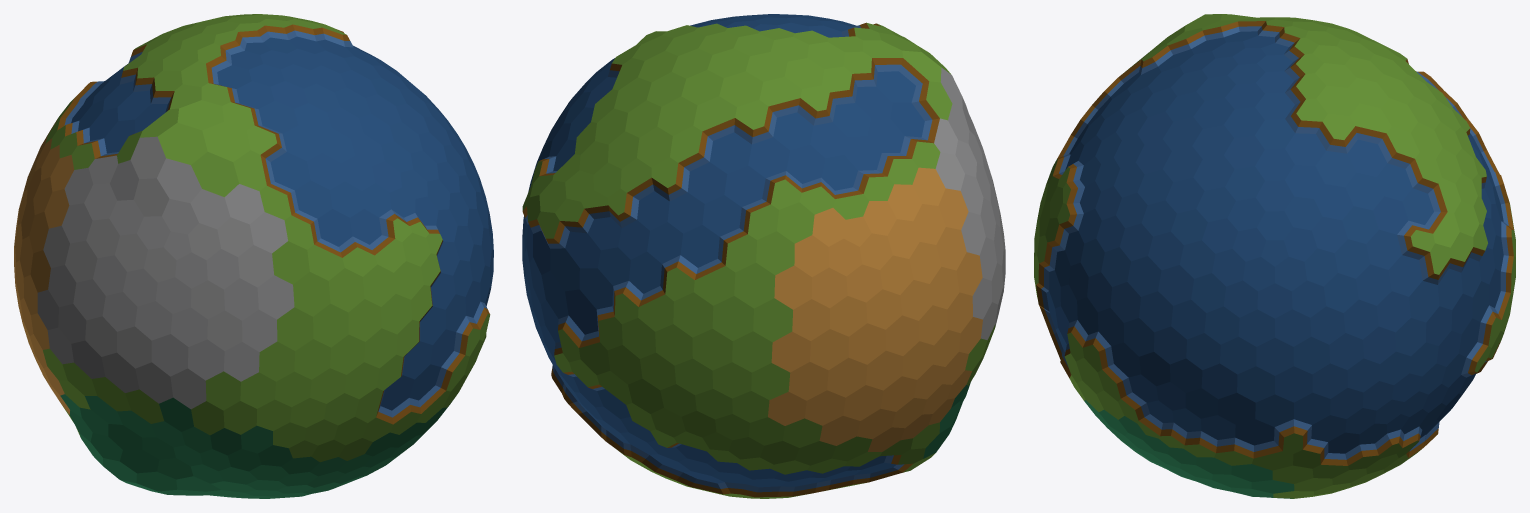
The model's file is Planet.fbx.
The picture shows the model from 3 angles, left to right: view 1: azimuth 30°, elevation 25°; view 2: azimuth 150°, elevation 25°; view 3: azimuth 270°, elevation 25°; orthographic projection. The views are drawn at different scales.
Visible parts, largest first — view 1: Planet; view 2: Planet; view 3: Planet.
Part boxes in pixels (left/top/right/bottom): Planet: left=14, top=14, right=493, bottom=498; Planet: left=522, top=14, right=1005, bottom=498; Planet: left=1034, top=14, right=1515, bottom=498.
Bounding box in the file's own units: 202 × 206 × 206.
